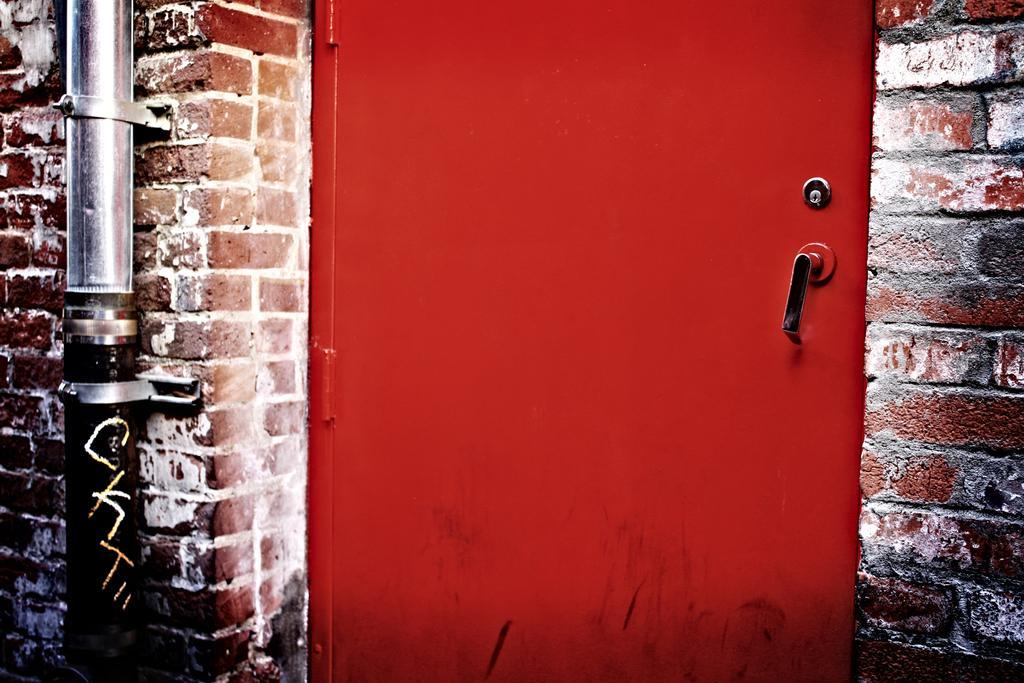door: (326, 0, 856, 670)
handle: (778, 246, 828, 358)
